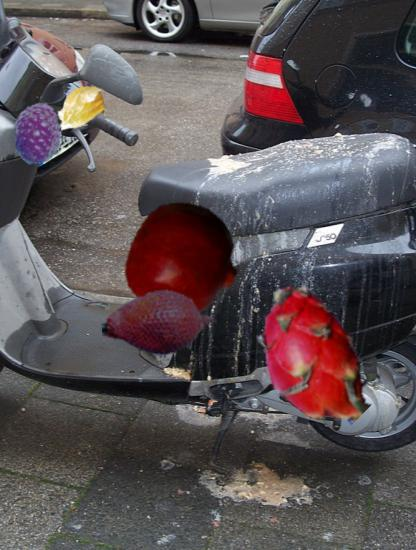Physalis: (50, 77, 111, 138)
Pitahaya: (239, 285, 387, 433)
Pomegranate: (125, 201, 243, 319)
Raspberry: (7, 102, 70, 165)
Salak: (102, 266, 217, 381)
